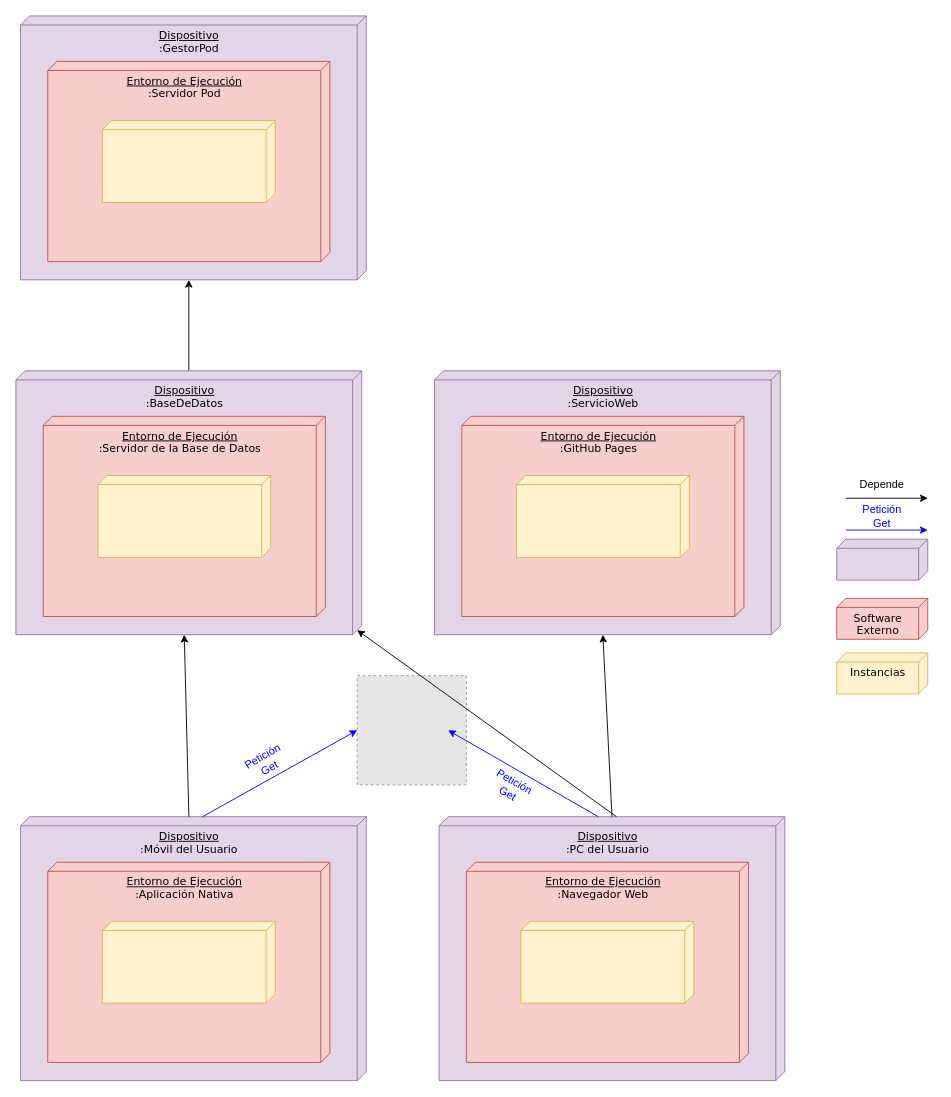
This 951x1097 diagram has some shape labels left out. Grey dashed boxes stand in for pictures. Here are the shapes that lost their labels. From the top down, the centre of each, then its label:
At (x=188, y=161): ":Pod del Usuario".
At (x=184, y=516): ":Firebase".
At (x=602, y=516): ":Radarin".
At (x=882, y=559): "Dispositivo Físico".
At (x=188, y=961): ":Aplicación".
At (x=607, y=961): ":Página Web".
